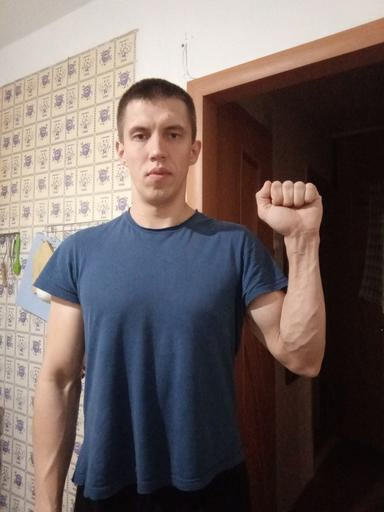fist: (253, 175, 326, 241)
